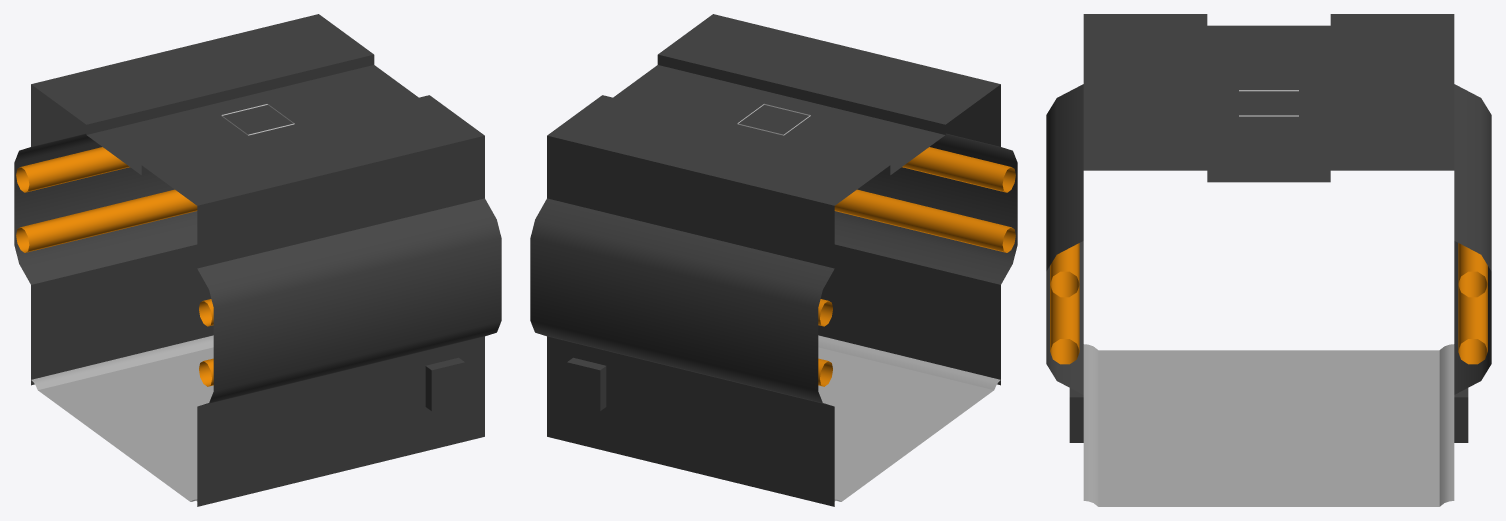
File: hallway.fbx
The picture shows the model from 3 angles, left to right: view 1: azimuth 30°, elevation 25°; view 2: azimuth 150°, elevation 25°; view 3: azimuth 270°, elevation 25°; orthographic projection. The views are drawn at different scales.
Parts seen in each view (by area): view 1: int_entrance; view 2: int_entrance; view 3: int_entrance.
Part boxes in pixels (box(x1,y1,x2,y2)): int_entrance: box(14, 14, 501, 506); int_entrance: box(530, 14, 1017, 506); int_entrance: box(1046, 14, 1491, 506).
Bounding box in the file's own units: 2 × 2 × 2.4.
